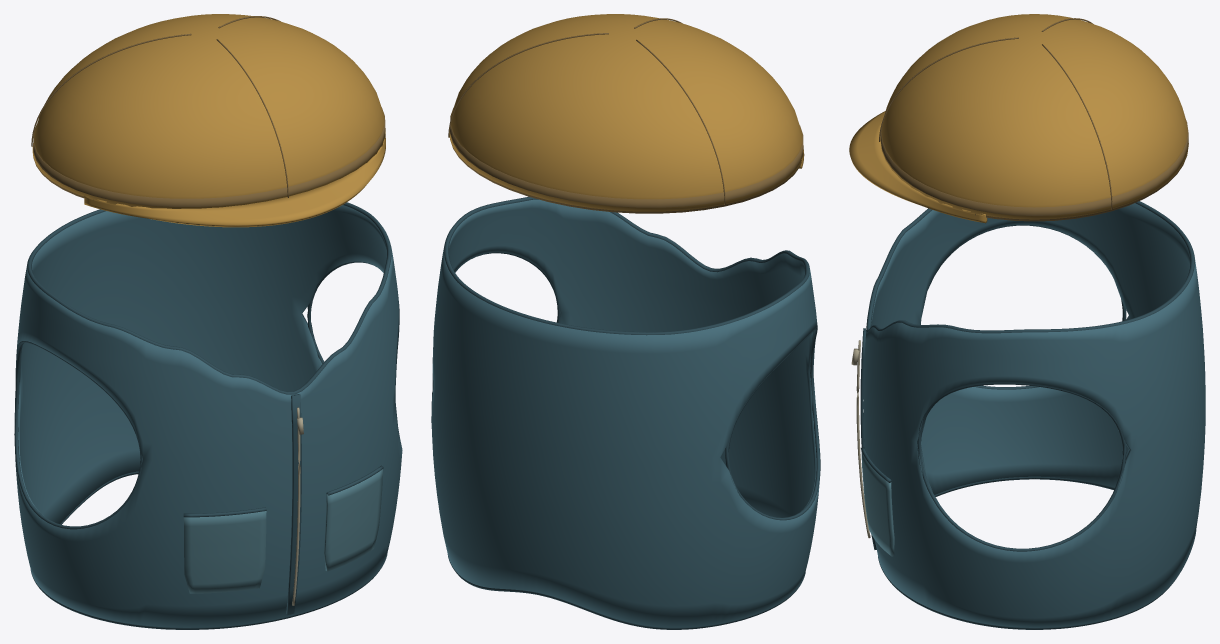
The model's file is goose-workwear-only.glb.
The picture shows the model from 3 angles, left to right: view 1: azimuth 30°, elevation 25°; view 2: azimuth 150°, elevation 25°; view 3: azimuth 270°, elevation 25°; orthographic projection. The views are drawn at different scales.
Visible parts, largest first — view 1: goose_vest_workwear_mesh, goose_helmet_workwear_mesh; view 2: goose_vest_workwear_mesh, goose_helmet_workwear_mesh; view 3: goose_vest_workwear_mesh, goose_helmet_workwear_mesh.
Part boxes in pixels (x1=…): goose_vest_workwear_mesh: x1=14, y1=202, x2=402, y2=629; goose_helmet_workwear_mesh: x1=31, y1=14, x2=385, y2=227; goose_vest_workwear_mesh: x1=431, y1=196, x2=820, y2=629; goose_helmet_workwear_mesh: x1=448, y1=14, x2=804, y2=213; goose_vest_workwear_mesh: x1=851, y1=201, x2=1205, y2=629; goose_helmet_workwear_mesh: x1=849, y1=14, x2=1188, y2=223.
Bounding box in the file's own units: 0.9865 × 1.44 × 0.903.
